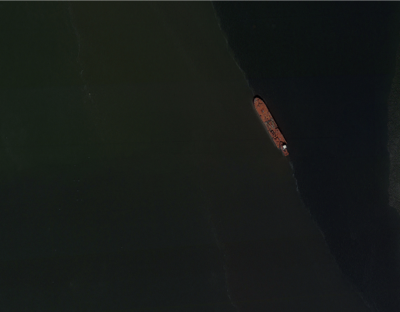boat: (253, 96, 291, 158)
